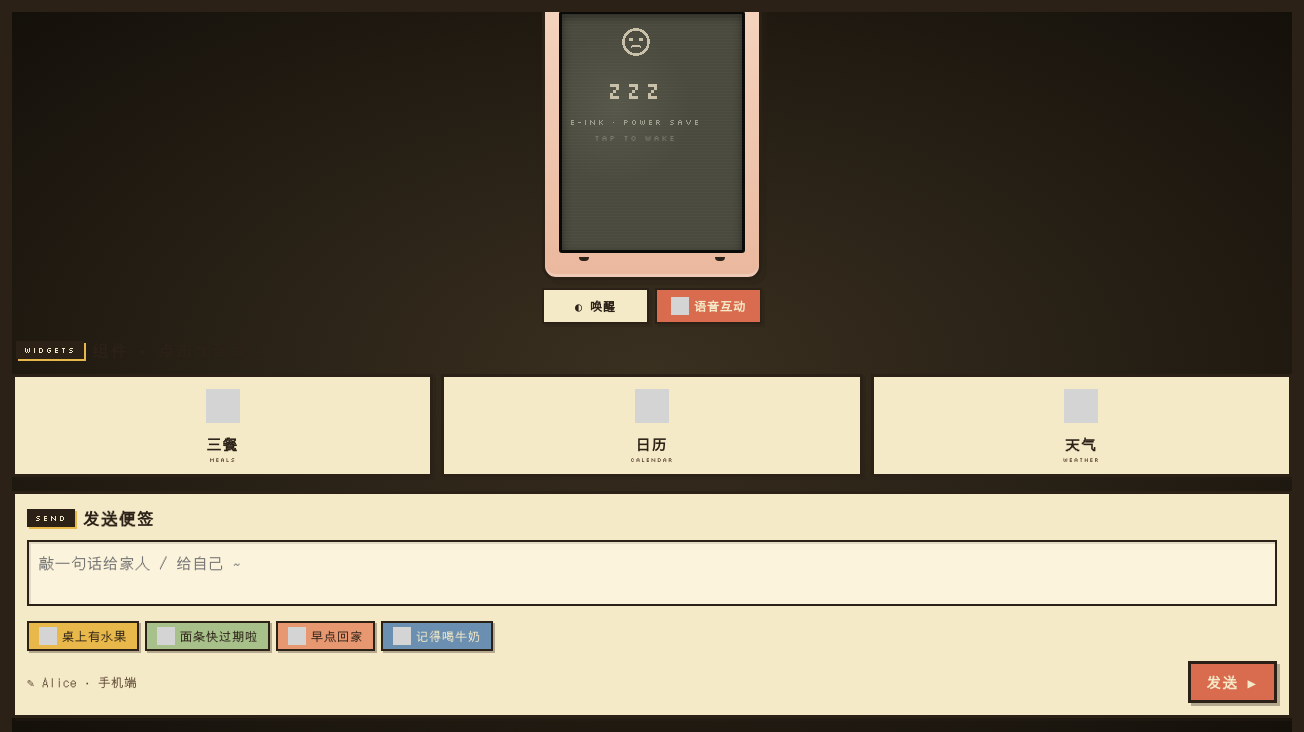
Scenario: DeviceDisplayScene › reveals a note immediately under reduced motion
This screenshot has width=1304, height=732.
(page scrolled)
Type "记得喝牛奶" into the text box named "发送便签" at (652, 573), box [27,540,1277,606]
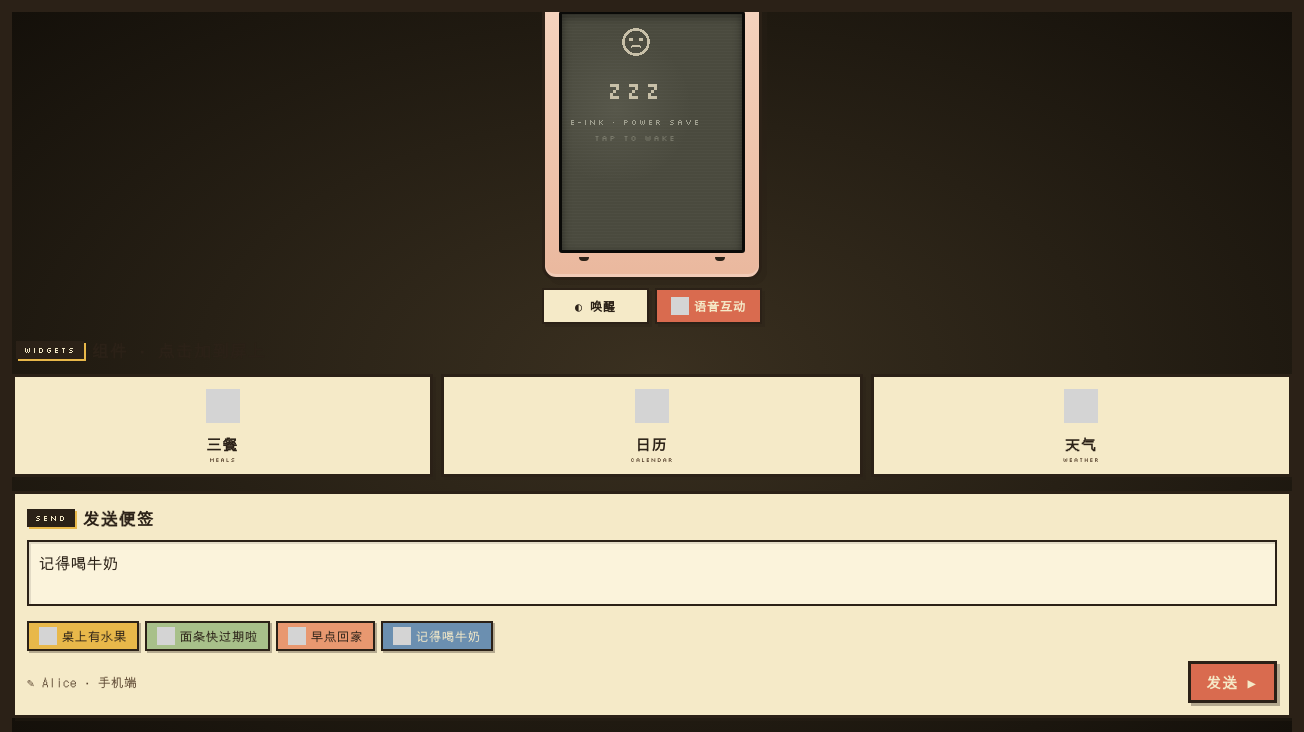
Click the button "发送 ▶" at (1232, 682), box [1188,661,1277,703]
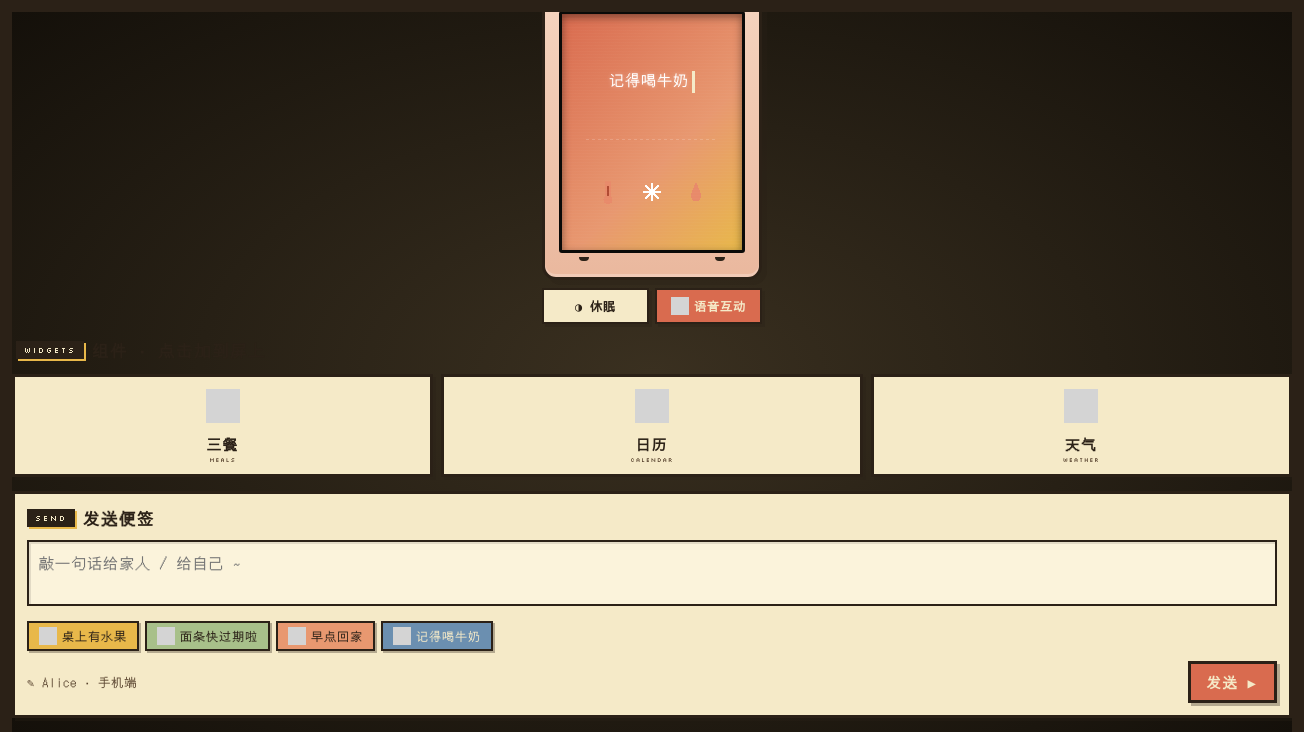
Expected: the element with test id "display-note" reads "记得喝牛奶", [609,69,689,90]
